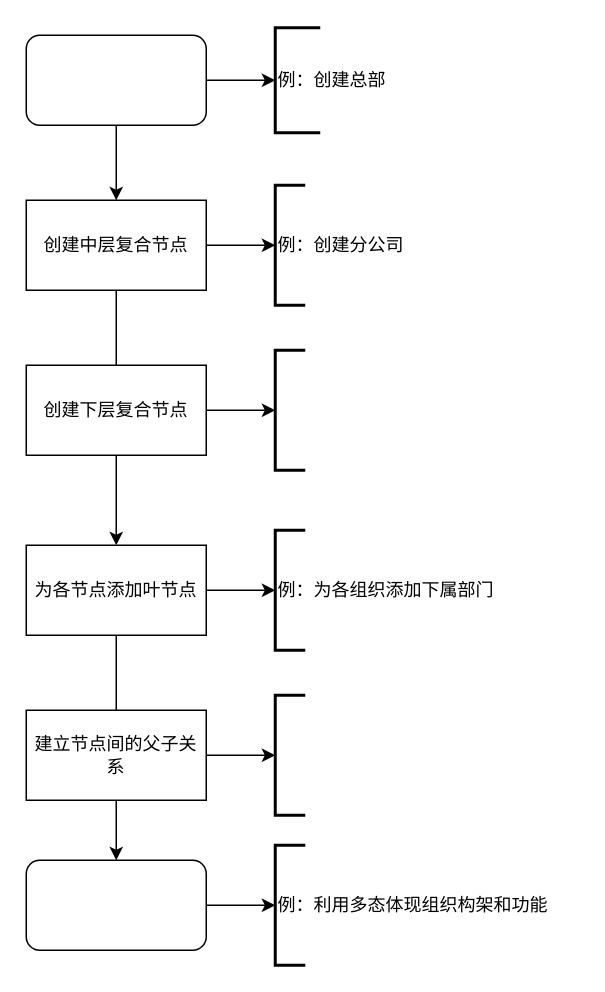
Some shapes in this 605 by 992 pixel diagram are drawn without their labels. Each missing label, with the box of its shape:
例：创建办事处: (273, 348, 306, 471)
例：利用add函数建立各部门所属关系: (273, 693, 306, 816)
创建顶层复合节点: (25, 34, 206, 125)
通过根节点统一调用多态方法: (25, 859, 206, 950)
